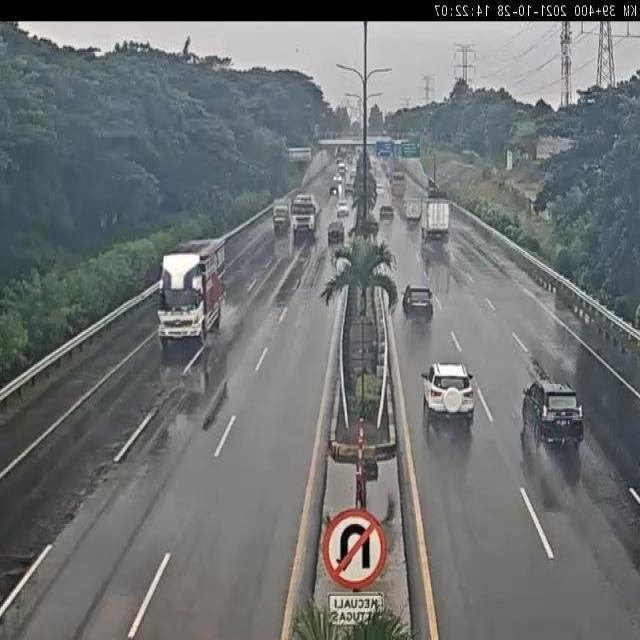Bus: (391, 170, 406, 193)
Car: (522, 376, 585, 449), (421, 363, 477, 427), (401, 285, 436, 321), (326, 220, 344, 242), (378, 204, 394, 220), (336, 200, 349, 217), (333, 172, 343, 184), (328, 186, 338, 197), (376, 183, 385, 195), (344, 182, 354, 192)
Truck: (154, 238, 227, 348), (420, 197, 450, 238), (289, 194, 317, 236), (272, 196, 290, 230), (404, 198, 422, 225)
